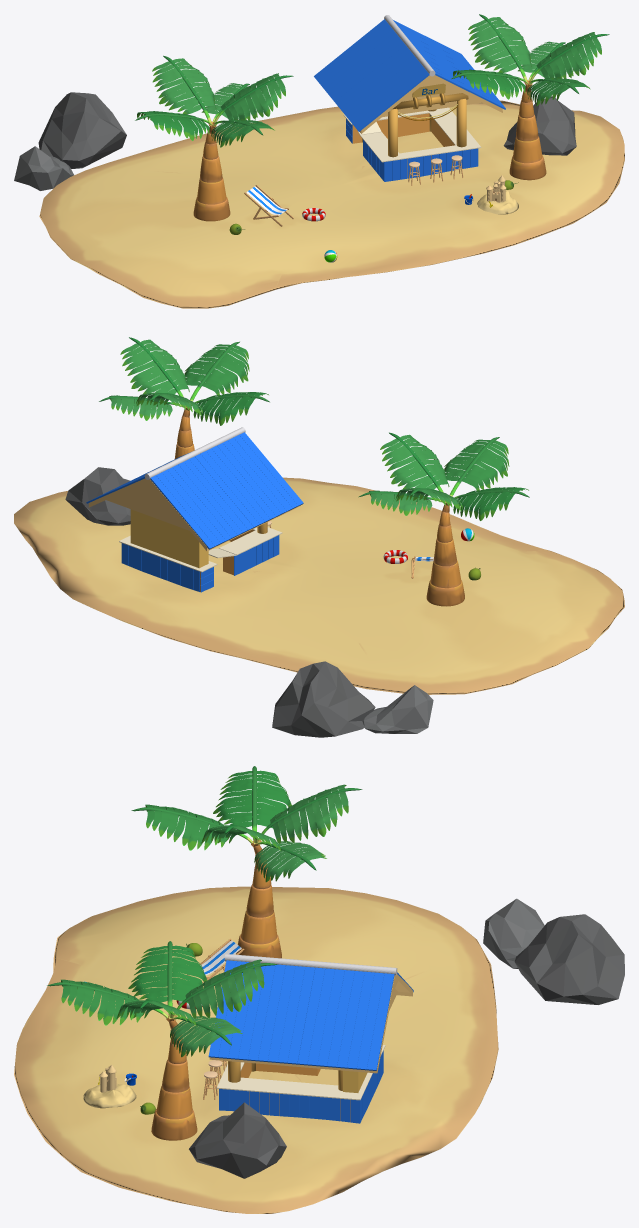
File: map.fbx
3 views of the same model, one above another, from view 1: azimuth 30°, elevation 25°; view 2: azimuth 150°, elevation 25°; view 3: azimuth 270°, elevation 25° (orthographic). The views are drawn at different scales.
Visible parts, largest first — view 1: Sphere, Cube.075, Stone_1, blade.007, blade.003, Stone_2, Cube.056, coconut tree.001, coconut tree.002, Cube.004, Cylinder.012, blade.009 (+12 smaller); view 2: Sphere, Cube.075, Stone_1, Cube.056, Cylinder.012, Cube.006, Stone_2, blade.010, blade.009, coconut tree.002, Stone_3, blade.005 (+9 smaller); view 3: Sphere, Cube.075, Stone_1, Stone_2, Cube.056, coconut tree.001, blade.006, blade.002, coconut tree.002, Stone_3, blade.003, blade.007 (+10 smaller).
Part boxes in pixels (x1,y1,x2,y2): Sphere: [39, 100, 624, 308]; Cube.075: [314, 19, 505, 131]; Stone_1: [38, 92, 126, 168]; blade.007: [468, 17, 531, 72]; blade.003: [152, 58, 216, 114]; Stone_2: [503, 96, 576, 155]; Cube.056: [346, 118, 478, 181]; coconut tree.001: [509, 85, 546, 180]; coconut tree.002: [193, 126, 230, 221]; Cube.004: [343, 107, 481, 162]; Cylinder.012: [359, 15, 502, 133]; blade.009: [536, 32, 601, 82]; Sphere: [14, 477, 624, 694]; Cube.075: [86, 432, 303, 549]; Stone_1: [272, 661, 375, 737]; Cube.056: [121, 535, 279, 592]; Cylinder.012: [88, 427, 300, 551]; Cube.006: [130, 509, 208, 568]; Stone_2: [65, 467, 130, 525]; blade.010: [380, 434, 449, 495]; blade.009: [120, 339, 189, 400]; coconut tree.002: [426, 504, 464, 606]; Stone_3: [362, 685, 433, 733]; blade.005: [184, 344, 249, 396]; Sphere: [14, 886, 498, 1213]; Cube.075: [208, 960, 413, 1070]; Stone_1: [514, 914, 624, 1004]; Stone_2: [189, 1102, 286, 1178]; Cube.056: [219, 1050, 383, 1123]; coconut tree.001: [151, 1020, 197, 1140]; blade.006: [128, 945, 207, 1003]; blade.002: [213, 770, 291, 828]; coconut tree.002: [236, 845, 281, 958]; Stone_3: [483, 898, 544, 968]; blade.003: [270, 784, 348, 843]; blade.007: [185, 959, 264, 1018].
Bounding box in the file's own units: 19921 × 5750 × 15590.
Materials: 54 (33 with a texture image).
